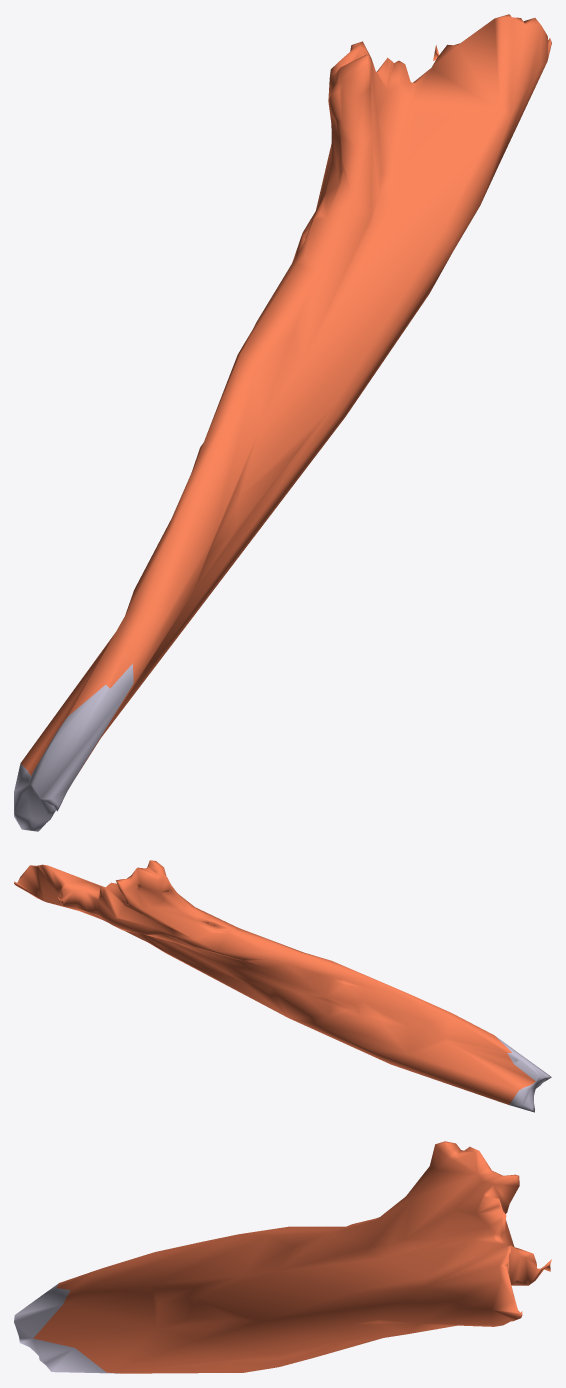
File: Opponens_pollicis_muscle.r_Generated_Mesh_From_X3D.314.glb
3 renders of one model, top to bottom at view 1: azimuth 30°, elevation 25°; view 2: azimuth 150°, elevation 25°; view 3: azimuth 270°, elevation 25°, orthographic. The views are drawn at different scales.
Visible parts, largest first — view 1: Opponens_pollicis_muscle.r_Generated_Mesh_From_X3D.314; view 2: Opponens_pollicis_muscle.r_Generated_Mesh_From_X3D.314; view 3: Opponens_pollicis_muscle.r_Generated_Mesh_From_X3D.314.
Part boxes in pixels (x1=…): Opponens_pollicis_muscle.r_Generated_Mesh_From_X3D.314: x1=14, y1=14, x2=551, y2=831; Opponens_pollicis_muscle.r_Generated_Mesh_From_X3D.314: x1=14, y1=860, x2=551, y2=1112; Opponens_pollicis_muscle.r_Generated_Mesh_From_X3D.314: x1=14, y1=1141, x2=551, y2=1373.
Bounding box in the file's own units: 0.0463 × 0.0284 × 0.0288.
